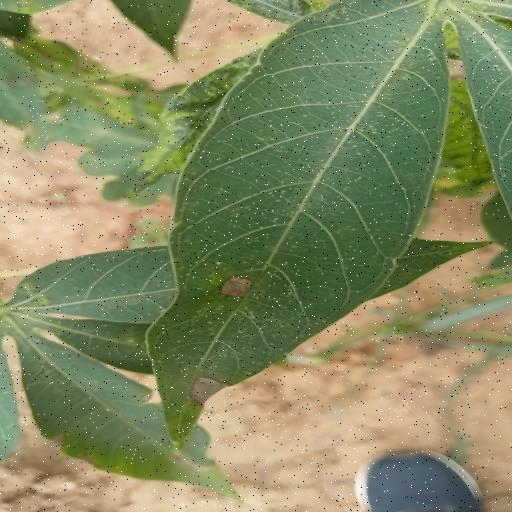Cassava_Brown_Leaf_Spot: (145, 0, 512, 440), (0, 228, 465, 489)
